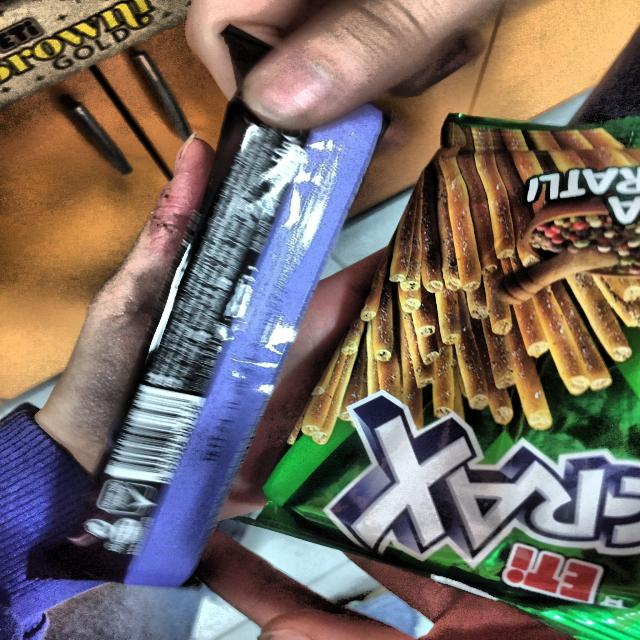Plastic: (57, 55, 423, 606), (232, 90, 640, 564)
